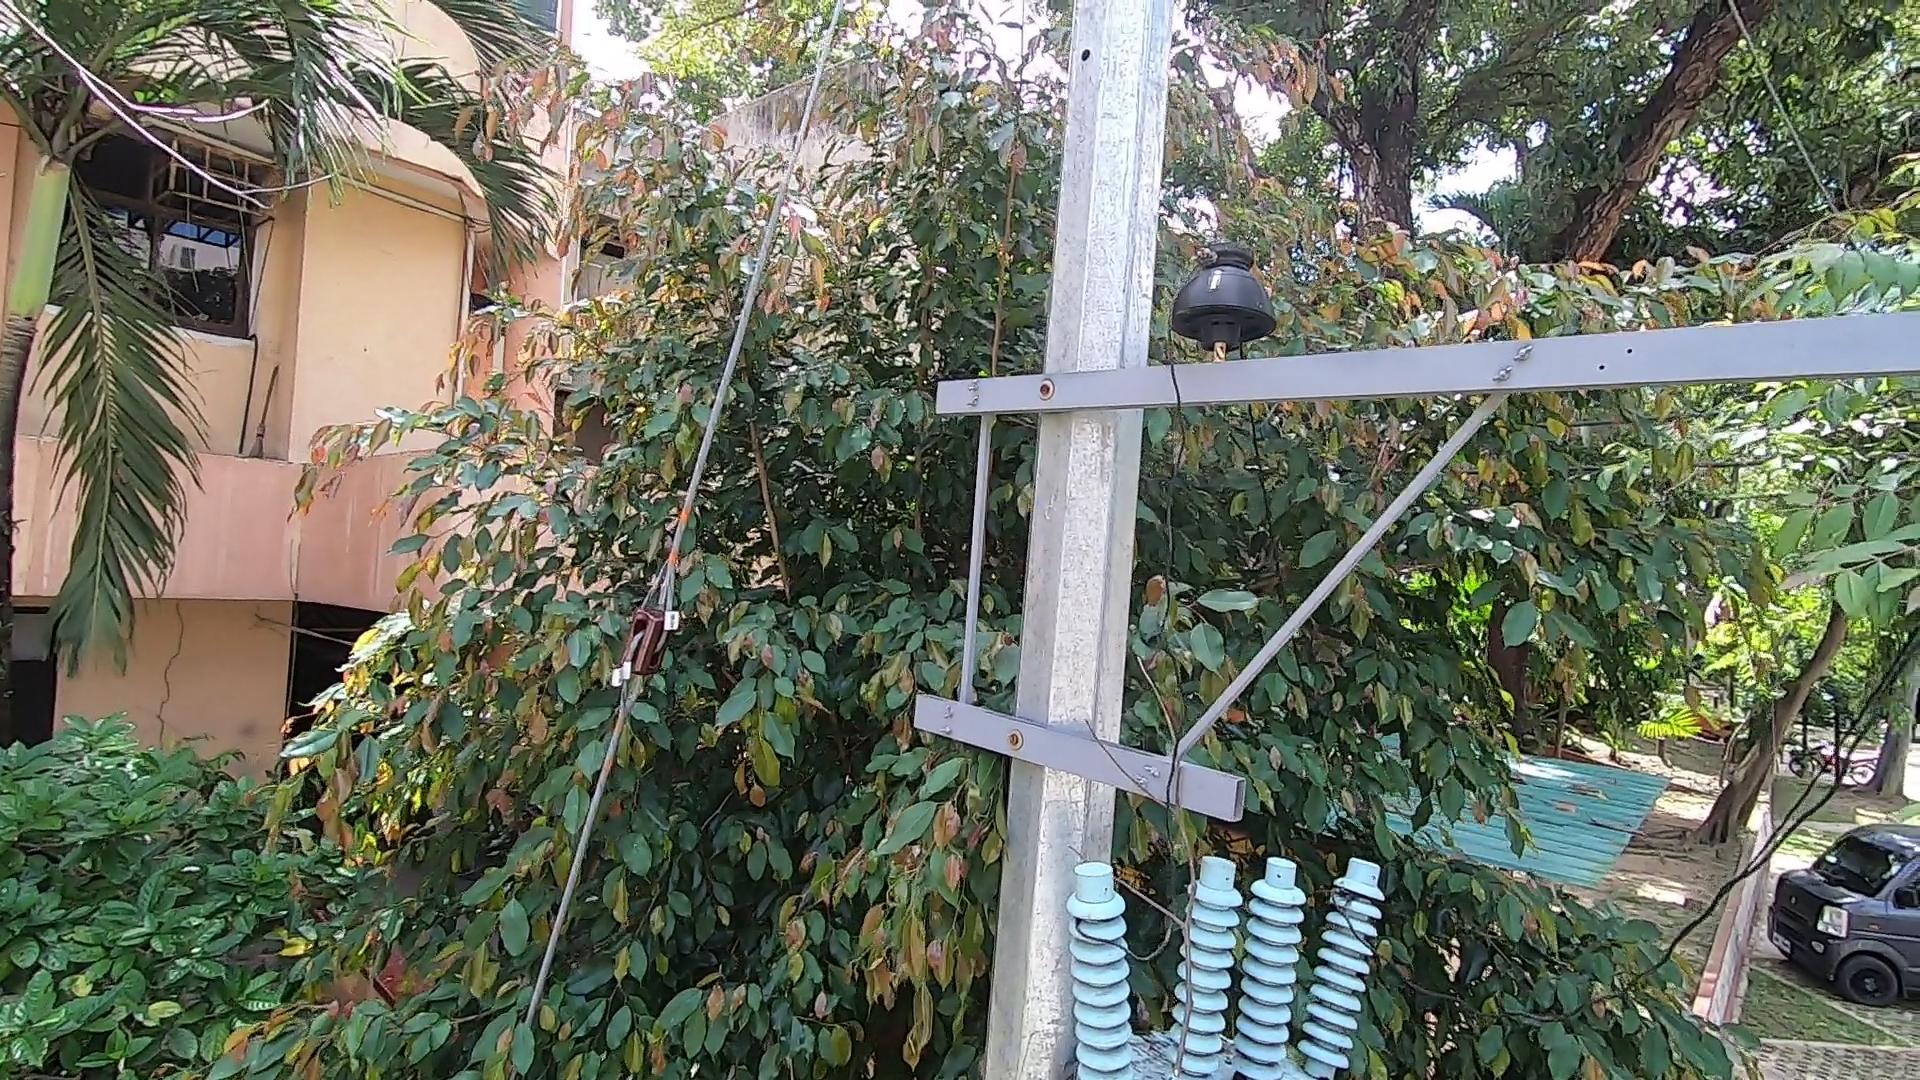tree branch: (1087, 641, 1220, 1080)
